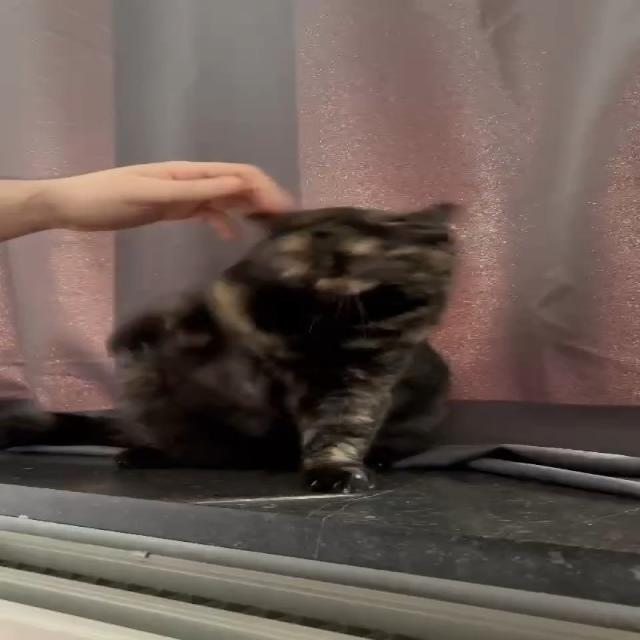authorized: (1, 200, 463, 494)
